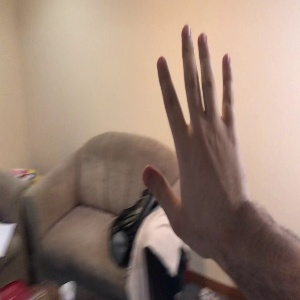hand: (143, 24, 246, 245)
